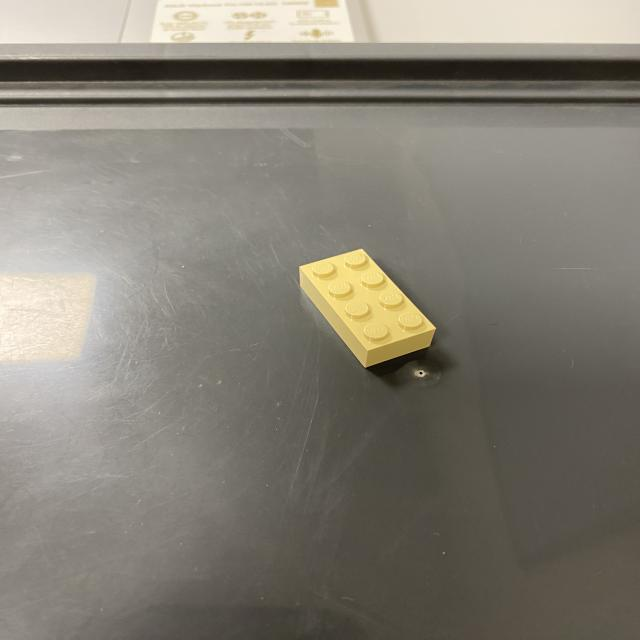C4x2x1: (298, 246, 437, 368)
